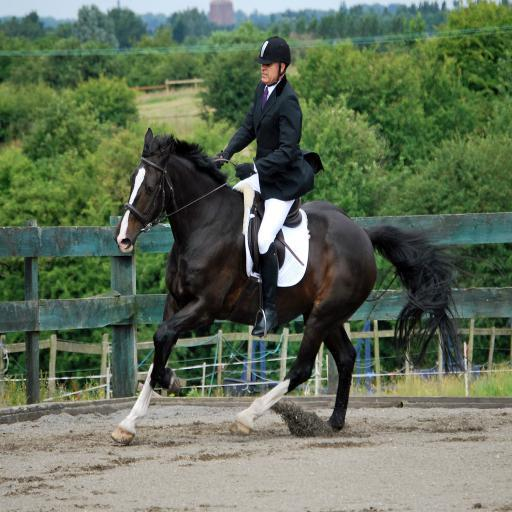horse: (110, 127, 472, 442)
